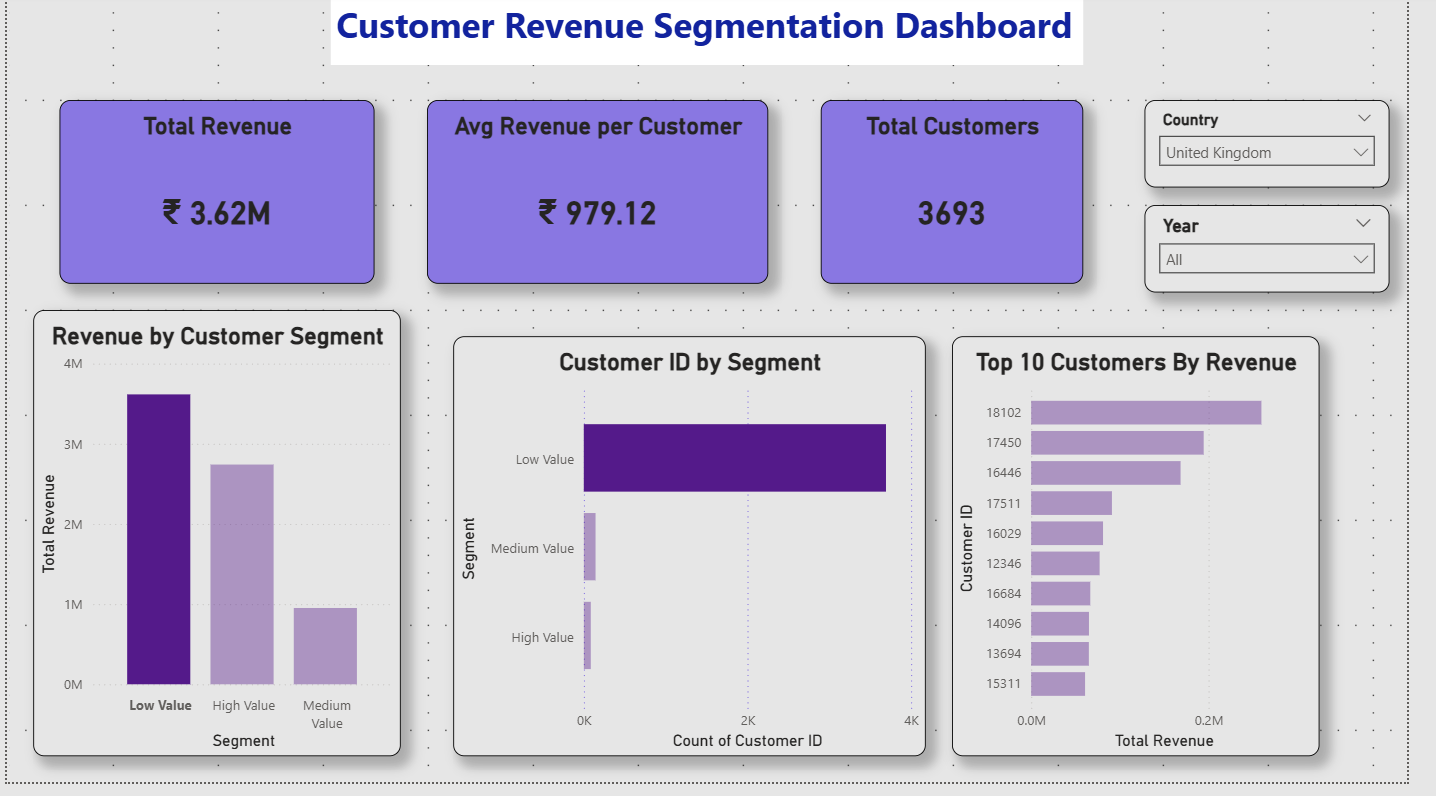

What the dashboard file says about the page in this screenshot:
{"tool":"powerbi","page":{"name":"Page 1","canvas":[1280,720],"ordinal":0},"visuals":[{"type":"card","title":"Total Revenue","fields":{"Values":["Cleaned_data.Total Revenue"]},"box":[48,96,288,168],"z":0},{"type":"textbox","box":[296,0,688,64],"z":1},{"type":"card","title":"Avg Revenue per Customer","fields":{"Values":["Cleaned_data.Avg Revenue per Customer"]},"box":[384,96,312,168],"z":2},{"type":"card","title":"Total Customers","fields":{"Values":["Cleaned_data.Total Customers"]},"box":[744,96,240,168],"z":3},{"type":"clusteredColumnChart","title":"Revenue by Customer Segment","fields":{"Y":["Cleaned_data.Total Revenue"],"Category":["Cleaned_data.Segment"]},"box":[24,288,336,408],"z":4},{"type":"clusteredBarChart","title":"Customer ID by Segment","fields":{"Category":["Cleaned_data.Segment"],"Y":["Count(Cleaned_data.Customer ID)"]},"box":[408,312,432,384],"z":5},{"type":"clusteredBarChart","title":"Top 10 Customers By Revenue","fields":{"Category":["Cleaned_data.Customer ID"],"Y":["Cleaned_data.Total Revenue"]},"box":[864,312,336,384],"z":6},{"type":"slicer","fields":{"Values":["Cleaned_data.Country"]},"box":[1040,96,224,80],"z":7},{"type":"slicer","fields":{"Values":["Cleaned_data.Year"]},"box":[1040,192,224,80],"z":8}]}

Visuals, with their boxes in screenshot pixels (x1, y1, x2, y2), scaled from the page's 1280x720 canvas onto the 1436x796 screenshot:
"Total Revenue" card: bbox(54, 106, 377, 292)
textbox: bbox(332, 0, 1104, 71)
"Avg Revenue per Customer" card: bbox(431, 106, 781, 292)
"Total Customers" card: bbox(835, 106, 1104, 292)
"Revenue by Customer Segment" clusteredColumnChart: bbox(27, 318, 404, 769)
"Customer ID by Segment" clusteredBarChart: bbox(458, 345, 942, 769)
"Top 10 Customers By Revenue" clusteredBarChart: bbox(969, 345, 1346, 769)
slicer - Cleaned_data.Country: bbox(1167, 106, 1418, 195)
slicer - Cleaned_data.Year: bbox(1167, 212, 1418, 301)
